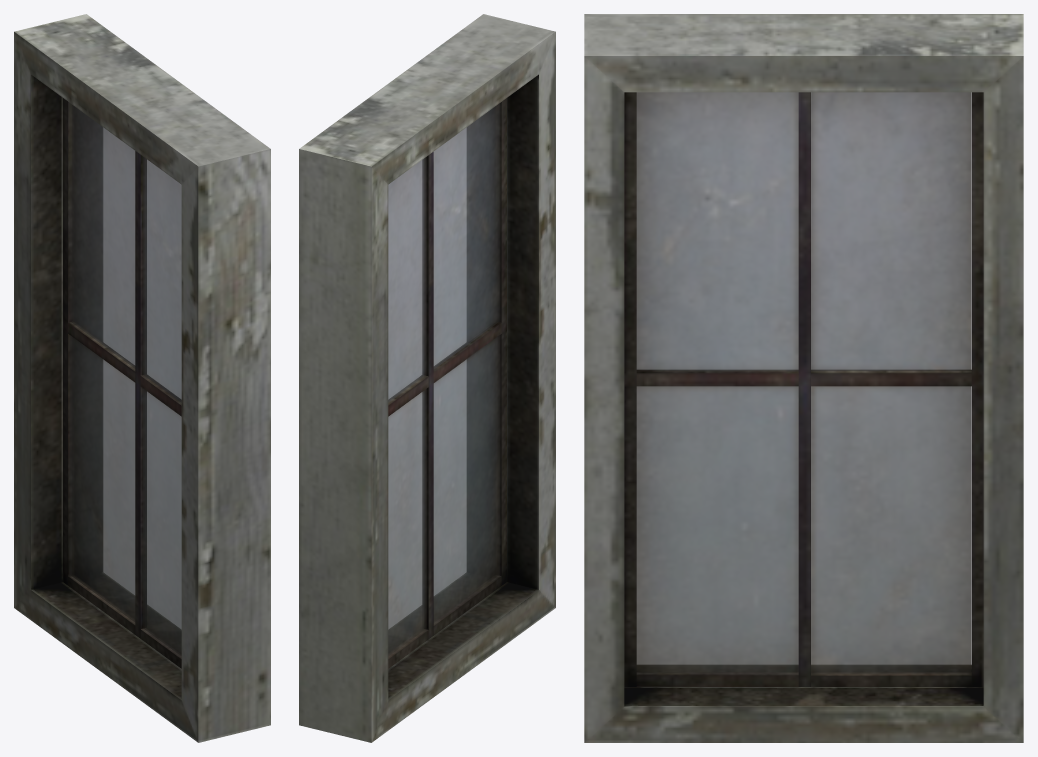
Rendered from WindowSingle_L.FBX.
3 views of the same model, side by side, from view 1: azimuth 30°, elevation 25°; view 2: azimuth 150°, elevation 25°; view 3: azimuth 270°, elevation 25° (orthographic). The views are drawn at different scales.
Parts seen in each view (by area): view 1: WindowSingle_L; view 2: WindowSingle_L; view 3: WindowSingle_L.
Part boxes in pixels (x1=…): WindowSingle_L: x1=14, y1=14, x2=270, y2=742; WindowSingle_L: x1=299, y1=14, x2=555, y2=742; WindowSingle_L: x1=584, y1=14, x2=1023, y2=742.
Size of the model in its own units: 22.67 by 173 by 100.
